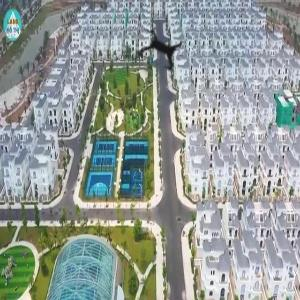drone: (111, 3, 212, 104)
